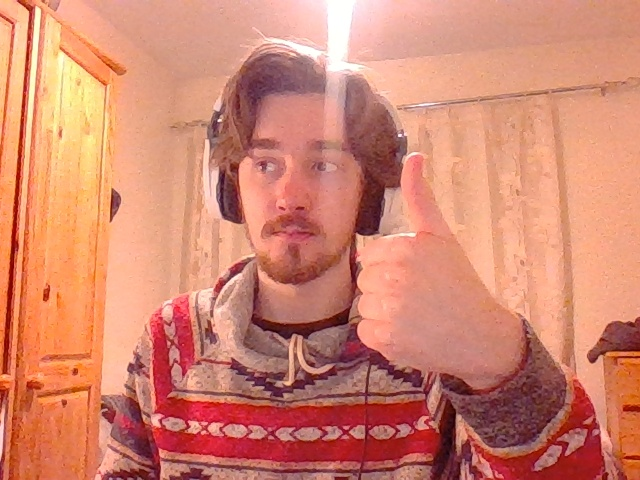good: (356, 154, 521, 370)
